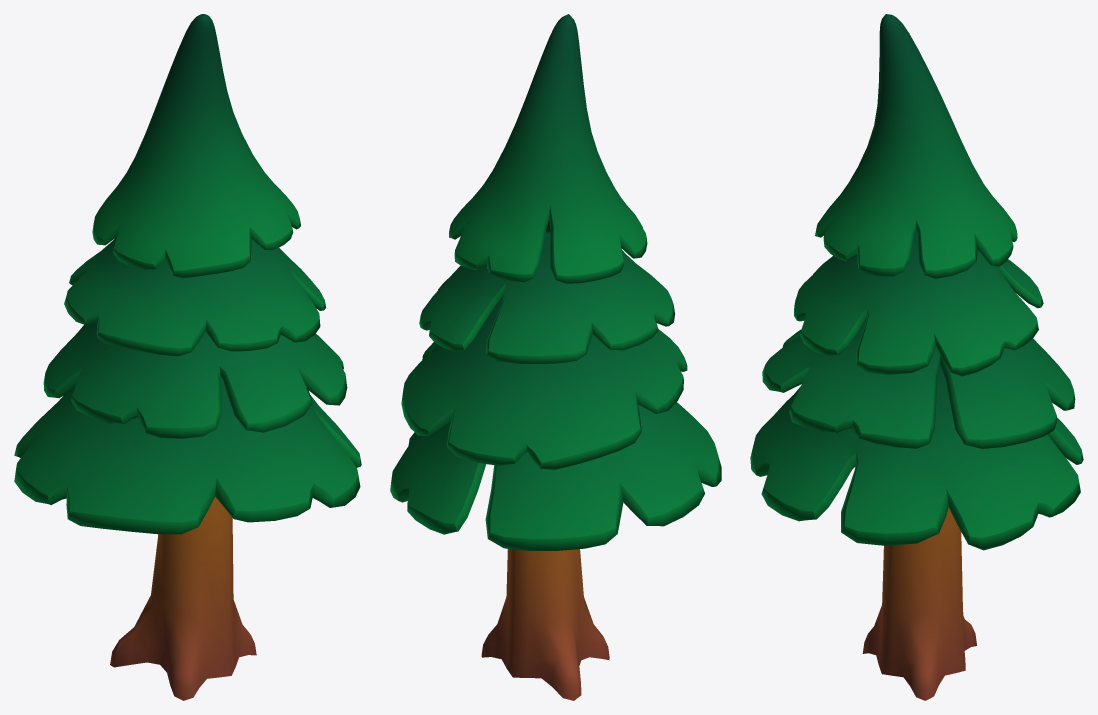
The model's file is Spruce02.fbx.
3 views of the same model, side by side, from view 1: azimuth 30°, elevation 25°; view 2: azimuth 150°, elevation 25°; view 3: azimuth 270°, elevation 25° (orthographic). The views are drawn at different scales.
Parts seen in each view (by area): view 1: Circle.065, Circle.072; view 2: Circle.065, Circle.072; view 3: Circle.065, Circle.072.
Boxes of the visible parts, box(x1,y1,x2,y2) form: Circle.065: box(14, 14, 361, 534); Circle.072: box(110, 497, 256, 700); Circle.065: box(390, 14, 721, 550); Circle.072: box(481, 548, 609, 700); Circle.065: box(750, 14, 1083, 550); Circle.072: box(862, 507, 976, 700).
Bounding box in the file's own units: 337 × 721 × 333.
